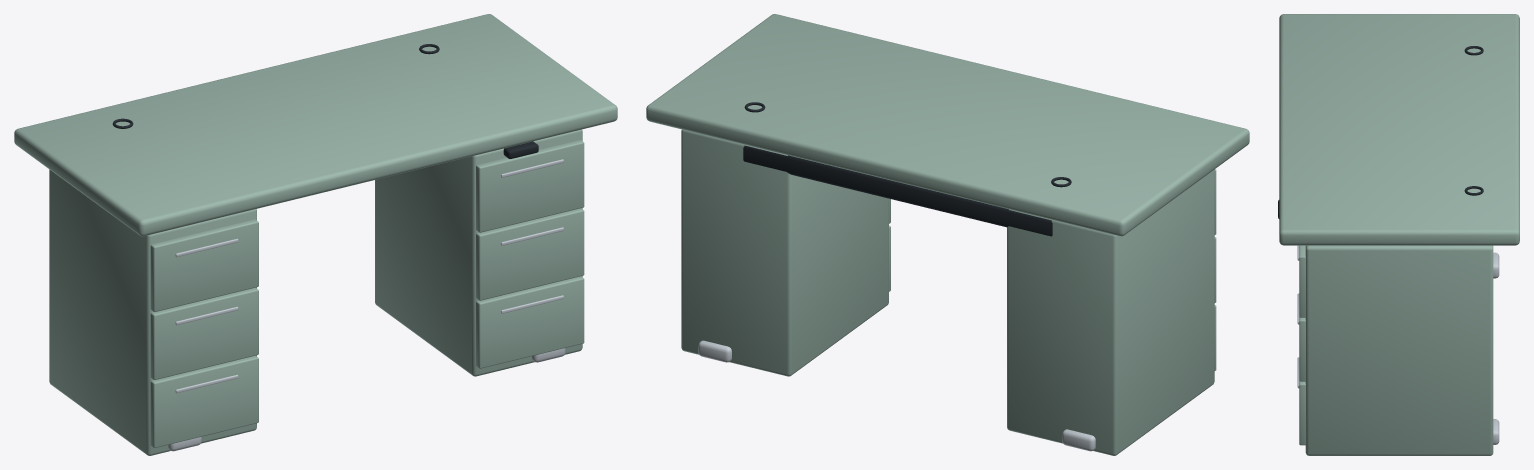
The model's file is pedestal-computer-desk.glb.
The picture shows the model from 3 angles, left to right: view 1: azimuth 30°, elevation 25°; view 2: azimuth 150°, elevation 25°; view 3: azimuth 270°, elevation 25°; orthographic projection. The views are drawn at different scales.
Parts seen in each view (by area): view 1: pedestal-computer-desk; view 2: pedestal-computer-desk; view 3: pedestal-computer-desk.
Part boxes in pixels (x1=…): pedestal-computer-desk: x1=14, y1=14, x2=617, y2=455; pedestal-computer-desk: x1=646, y1=14, x2=1249, y2=455; pedestal-computer-desk: x1=1278, y1=14, x2=1519, y2=455.
Bounding box in the file's own units: 1.5 × 0.76 × 0.7.
